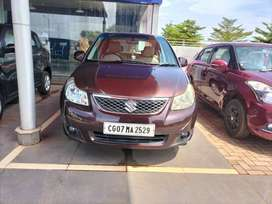CG07MA2529: (103, 122, 155, 135)
